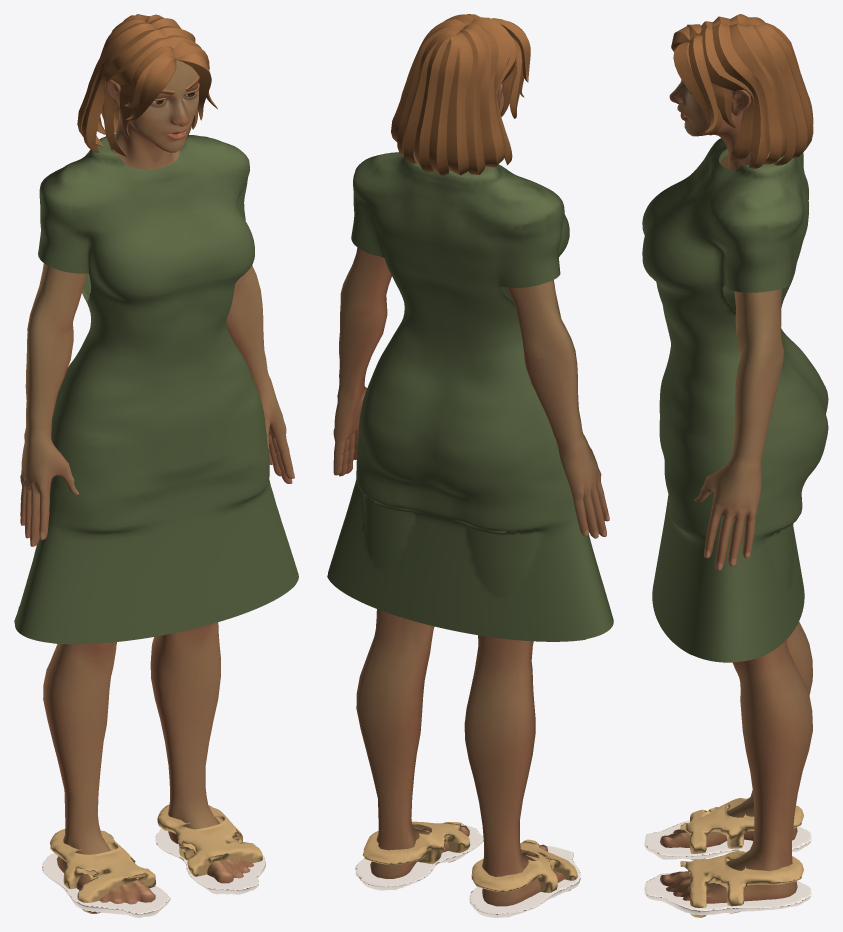
File: weekend.glb
3 renders of one model, left to right at view 1: azimuth 30°, elevation 25°; view 2: azimuth 150°, elevation 25°; view 3: azimuth 270°, elevation 25°, orthographic.
Parts seen in each view (by area): view 1: dress, body, hair_long, sandals, sandals-2, sandals-1; view 2: dress, body, hair_long, sandals, sandals-1, sandals-2; view 3: dress, body, hair_long, sandals, sandals-1, sandals-2.
Boxes of the visible parts, bbox=[...] form: dress: bbox=[14, 134, 298, 644]; body: bbox=[20, 60, 294, 904]; hair_long: bbox=[77, 14, 217, 156]; sandals: bbox=[49, 804, 262, 913]; sandals-2: bbox=[41, 853, 170, 917]; sandals-1: bbox=[155, 828, 265, 894]; dress: bbox=[327, 151, 613, 641]; body: bbox=[333, 82, 609, 906]; hair_long: bbox=[391, 14, 530, 175]; sandals: bbox=[362, 821, 577, 892]; sandals-1: bbox=[355, 824, 483, 890]; sandals-2: bbox=[469, 846, 580, 917]; dress: bbox=[642, 138, 828, 662]; body: bbox=[660, 80, 812, 903]; hair_long: bbox=[671, 14, 813, 168]; sandals: bbox=[680, 798, 803, 917]; sandals-1: bbox=[644, 872, 811, 915]; sandals-2: bbox=[644, 820, 811, 859].
Bounding box in the file's own units: 0.5956 × 1.79 × 0.3523.
Materials: 7 (4 with a texture image).
